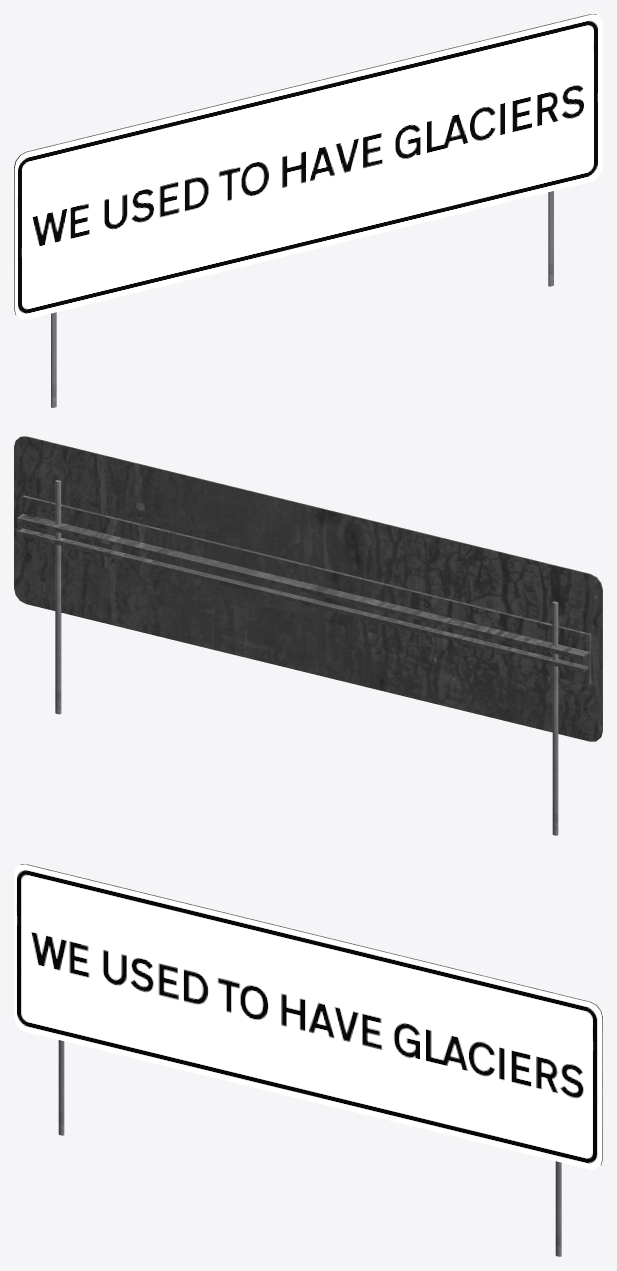
Rendered from glaciers.gltf.
The picture shows the model from 3 angles, top to bottom: view 1: azimuth 30°, elevation 25°; view 2: azimuth 150°, elevation 25°; view 3: azimuth 330°, elevation 25°; orthographic projection.
Visible parts, largest first — view 1: Sign_S_1.5_.013, PoleA_50.8_2800mm_A_.023, PoleA_50.8_2800mm_A_.024; view 2: Sign_S_1.5_.013, PoleA_50.8_2800mm_A_.024, PoleA_50.8_2800mm_A_.023; view 3: Sign_S_1.5_.013, PoleA_50.8_2800mm_A_.023, PoleA_50.8_2800mm_A_.024.
Boxes of the visible parts, x1,y1,x2,y2 form: Sign_S_1.5_.013: [14, 14, 602, 319]; PoleA_50.8_2800mm_A_.023: [51, 312, 56, 407]; PoleA_50.8_2800mm_A_.024: [548, 191, 553, 286]; Sign_S_1.5_.013: [14, 436, 602, 741]; PoleA_50.8_2800mm_A_.024: [55, 480, 61, 714]; PoleA_50.8_2800mm_A_.023: [552, 601, 558, 835]; Sign_S_1.5_.013: [14, 864, 602, 1169]; PoleA_50.8_2800mm_A_.023: [58, 1040, 64, 1135]; PoleA_50.8_2800mm_A_.024: [555, 1161, 561, 1256].
Size of the model in its own units: 3.62 by 1.56 by 0.0926.
Materials: 8 (8 with a texture image).
